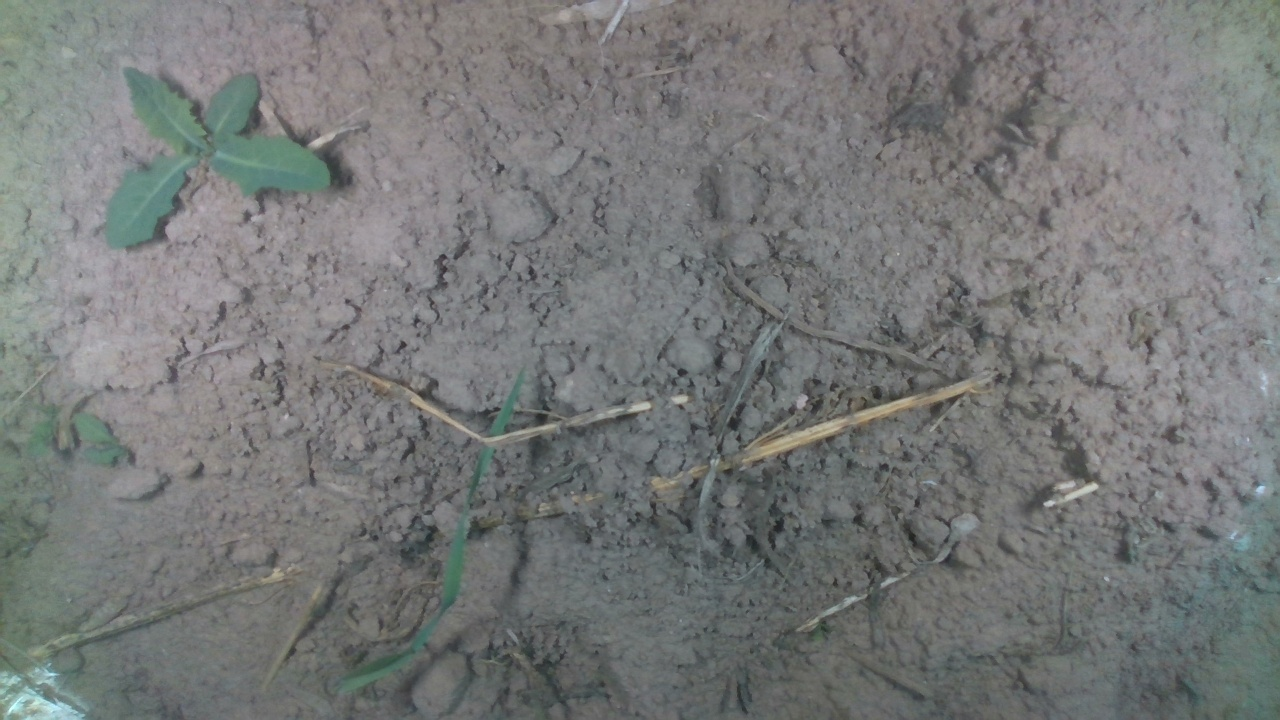weed: (103, 65, 337, 251)
